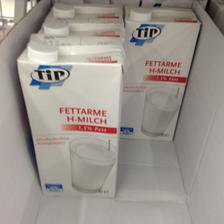Milch: (17, 32, 121, 198), (124, 5, 204, 149)
